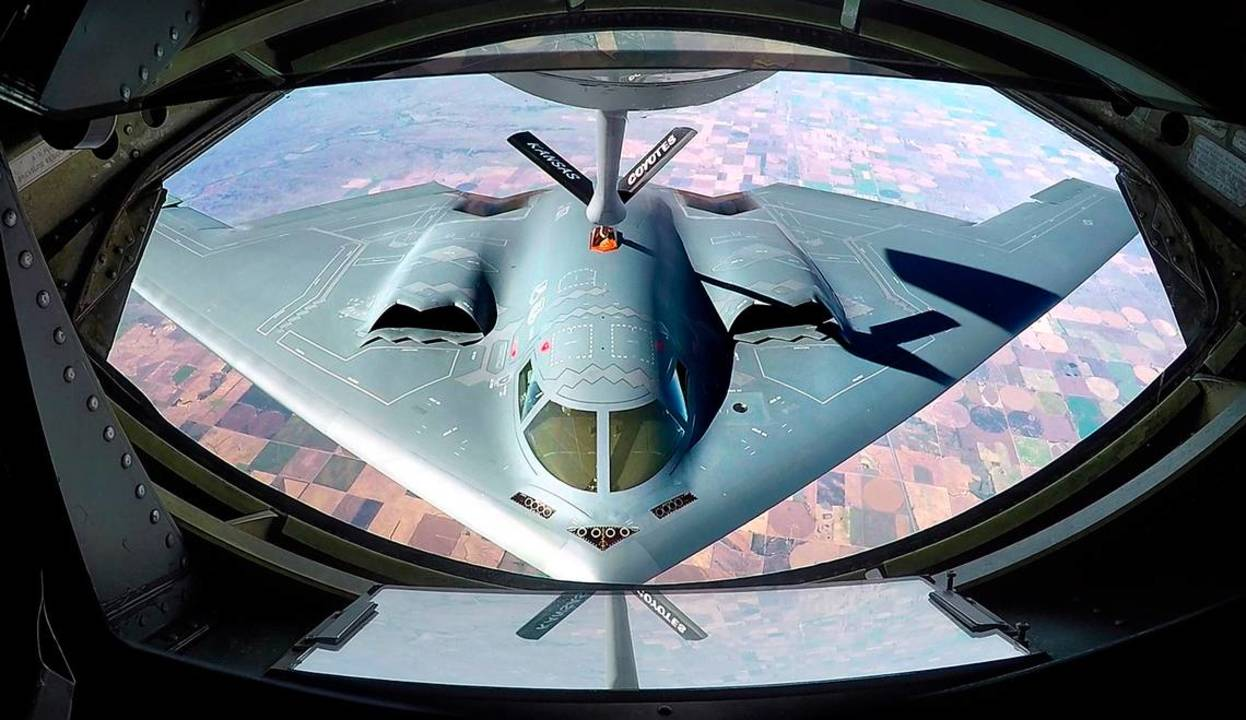B2: (130, 173, 1140, 585)
